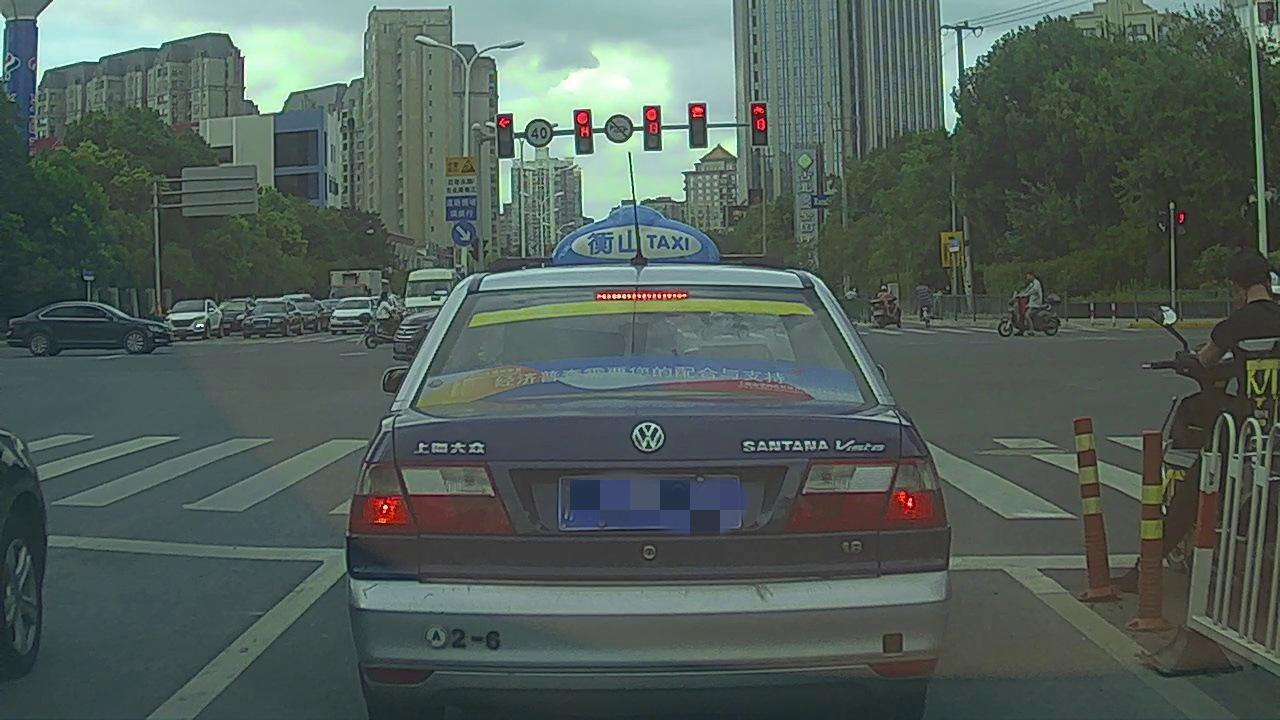traffic_light: (688, 102, 708, 148), (750, 101, 768, 146), (644, 105, 661, 152), (575, 110, 594, 152), (497, 115, 513, 157)
